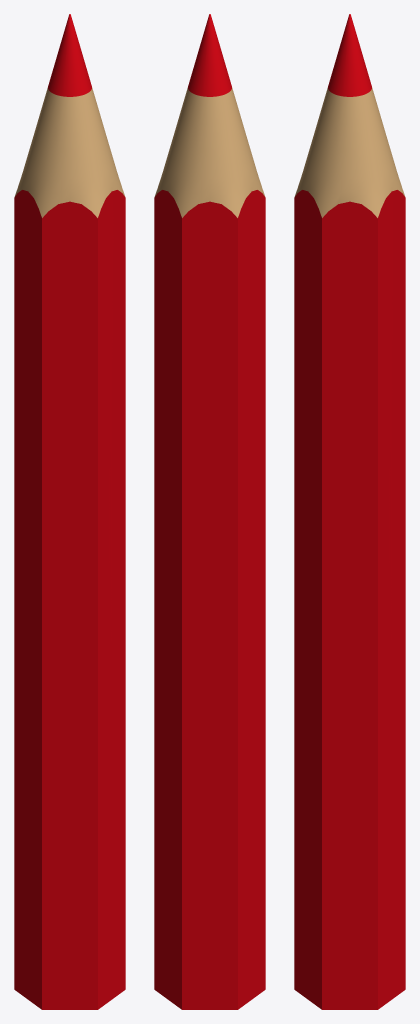
Rendered from Potloodv2.fbx.
3 views of the same model, side by side, from view 1: azimuth 90°, elevation 25°; view 2: azimuth 150°, elevation 25°; view 3: azimuth 270°, elevation 25° (orthographic).
Visible parts, largest first — view 1: Circle; view 2: Circle; view 3: Circle.
Part boxes in pixels (x1,y1,x2,y2): Circle: (14,14,125,1009); Circle: (154,14,265,1009); Circle: (294,14,405,1009).
Size of the model in its own units: 173 by 1931 by 200.
